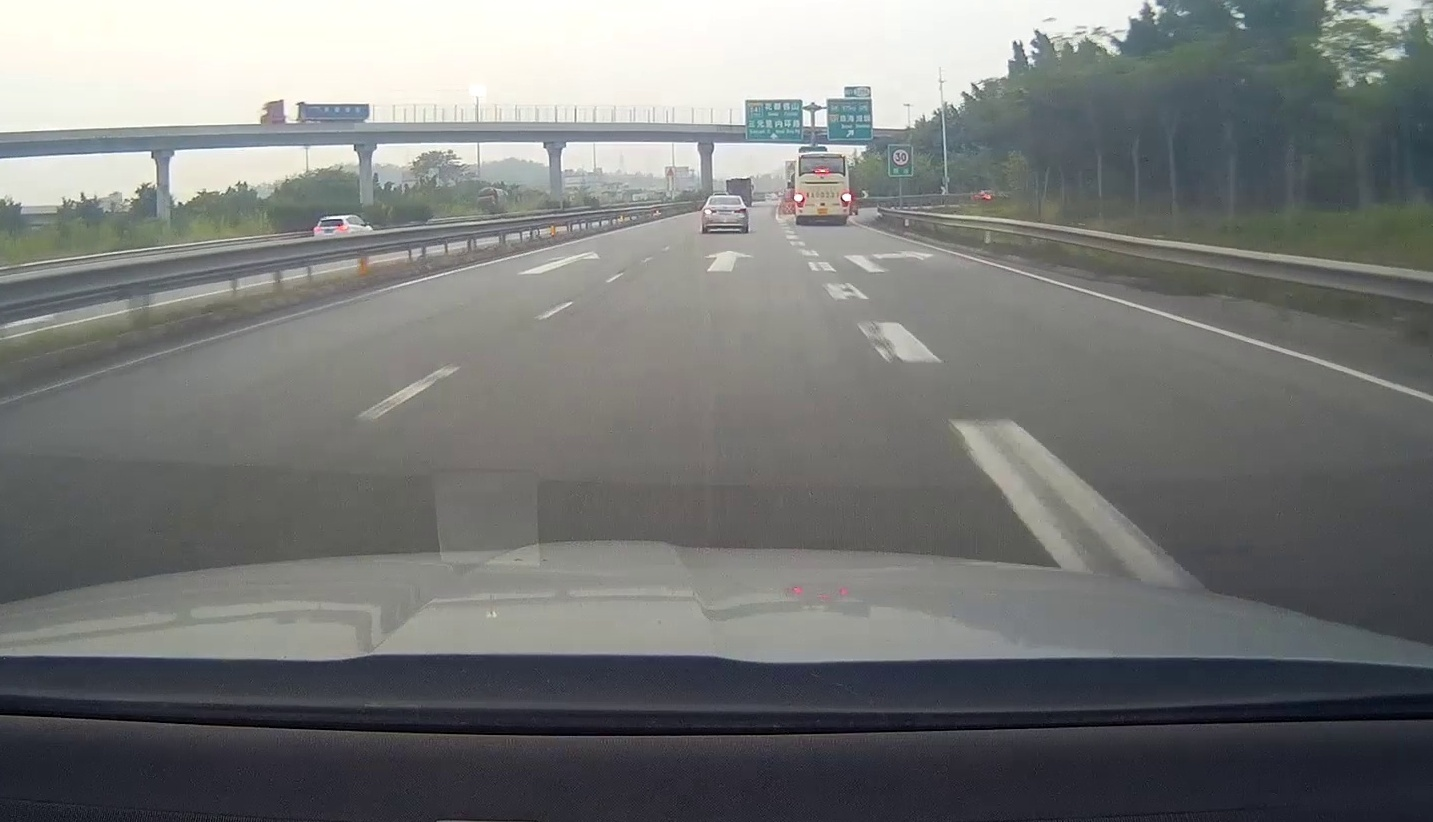L_light: (796, 193, 805, 208), (313, 226, 322, 234), (703, 209, 717, 213)
R_light: (840, 192, 849, 207), (338, 226, 348, 233), (734, 209, 746, 213)
T_light: (814, 169, 829, 173), (326, 218, 334, 221), (721, 196, 729, 198)
day-brake: (793, 152, 851, 224)
day-left: (701, 195, 748, 233)
day-no: (313, 216, 350, 242)
